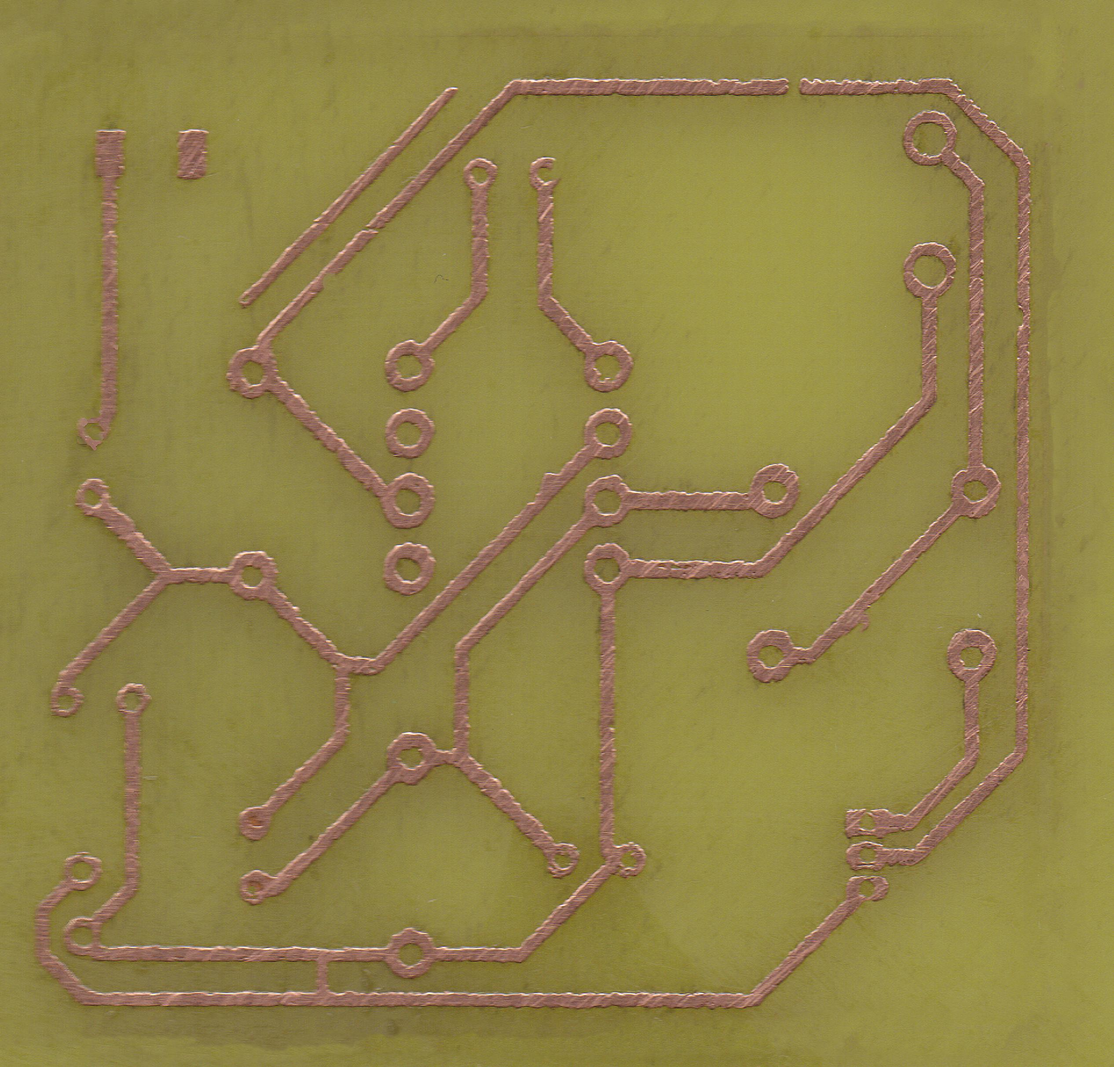missing_hole: (75, 416, 112, 450), (527, 157, 564, 190)
mouse_bite: (321, 270, 337, 290), (1015, 305, 1027, 331)
open_circuit: (778, 77, 809, 96), (359, 225, 385, 235)
short: (306, 949, 340, 1006)
spur: (539, 470, 561, 493)
spurious_copper: (235, 84, 461, 309)
